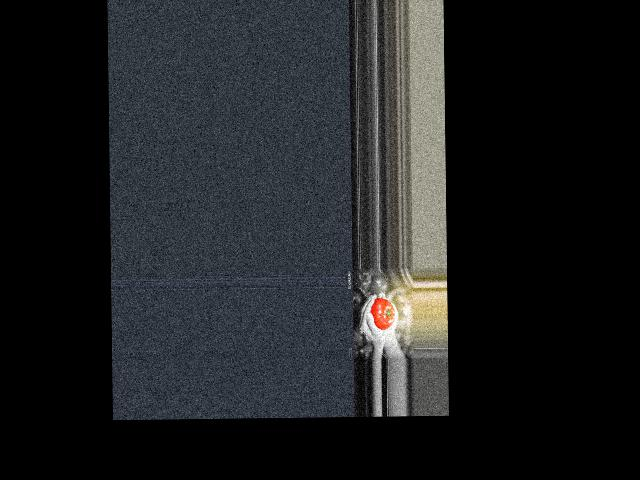tomato: (370, 298, 394, 330)
